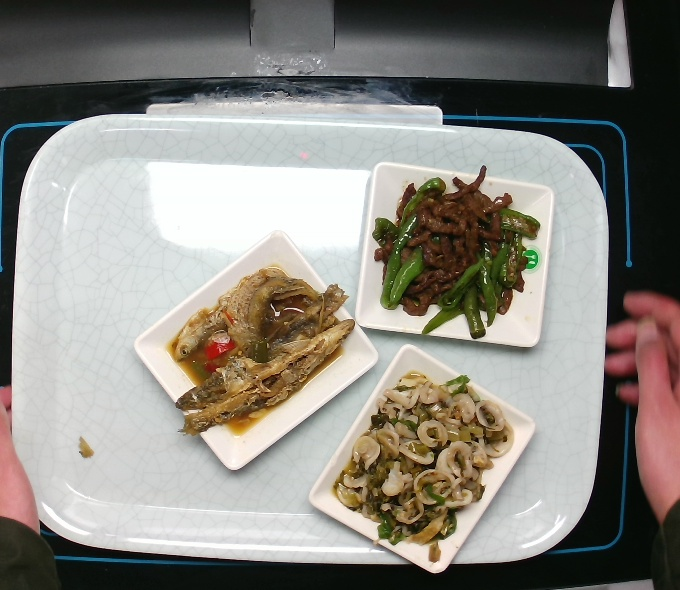wcq-QingJiaoNiuRou: (369, 159, 543, 346)
wcq-XiaoXiYu: (175, 259, 354, 442)
wcq-XueCaiYouYu: (338, 366, 518, 561)
